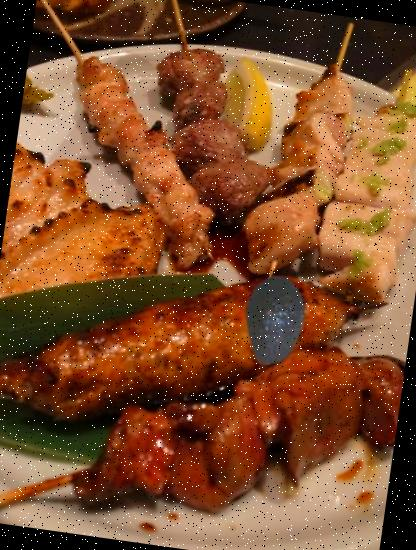Avocado: (223, 270, 324, 372)
